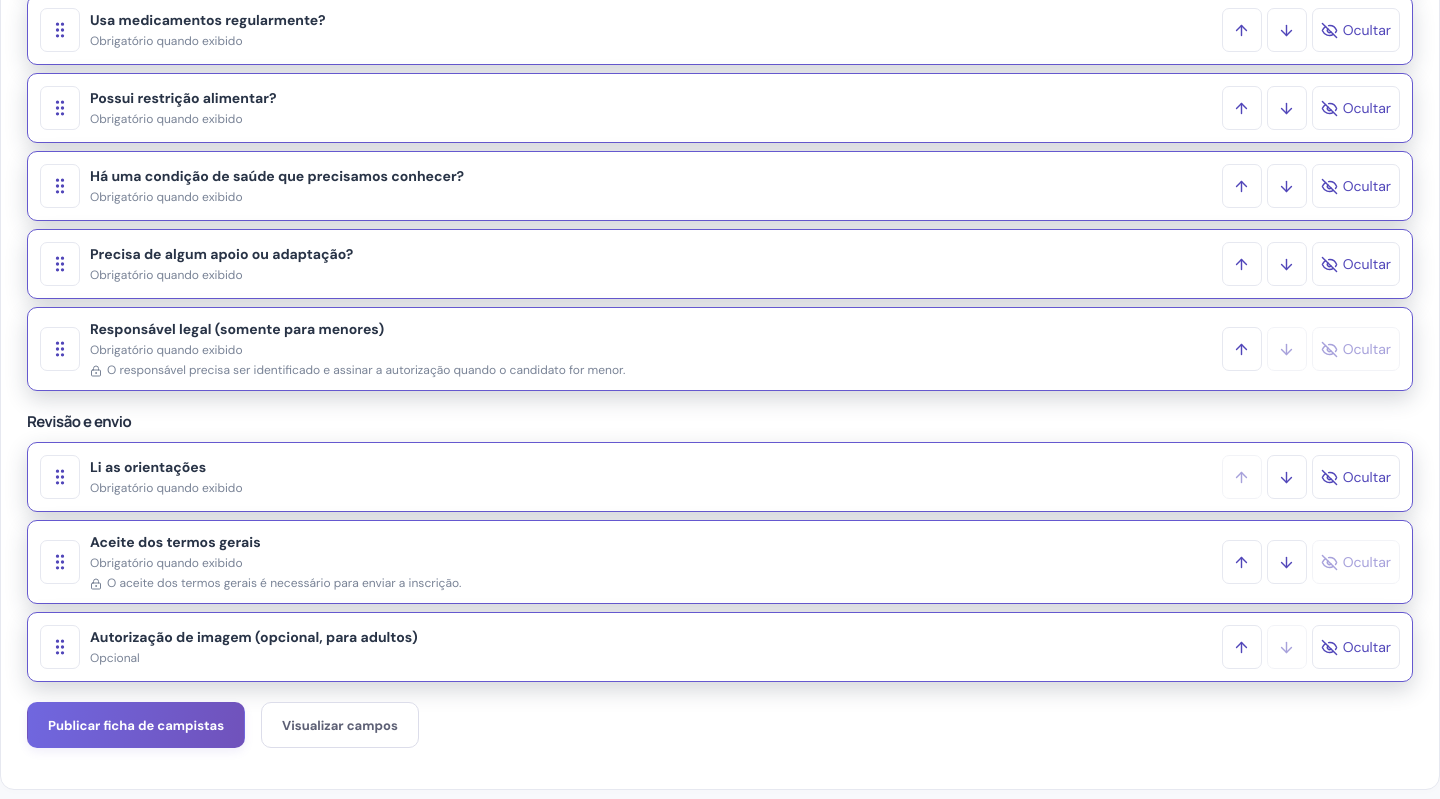
Test: Configuração da ficha de campistas › oferece banner, regras, chegada e prévia, sem depender de departamentos
The width and height of the screenshot is (1440, 799).
(page scrolled)
Expected: the button "Publicar ficha de campistas" is enabled, [27,702,245,748]
Click the button "Visualizar campos". click: (340, 725)
box: [261,702,419,748]
(page scrolled)
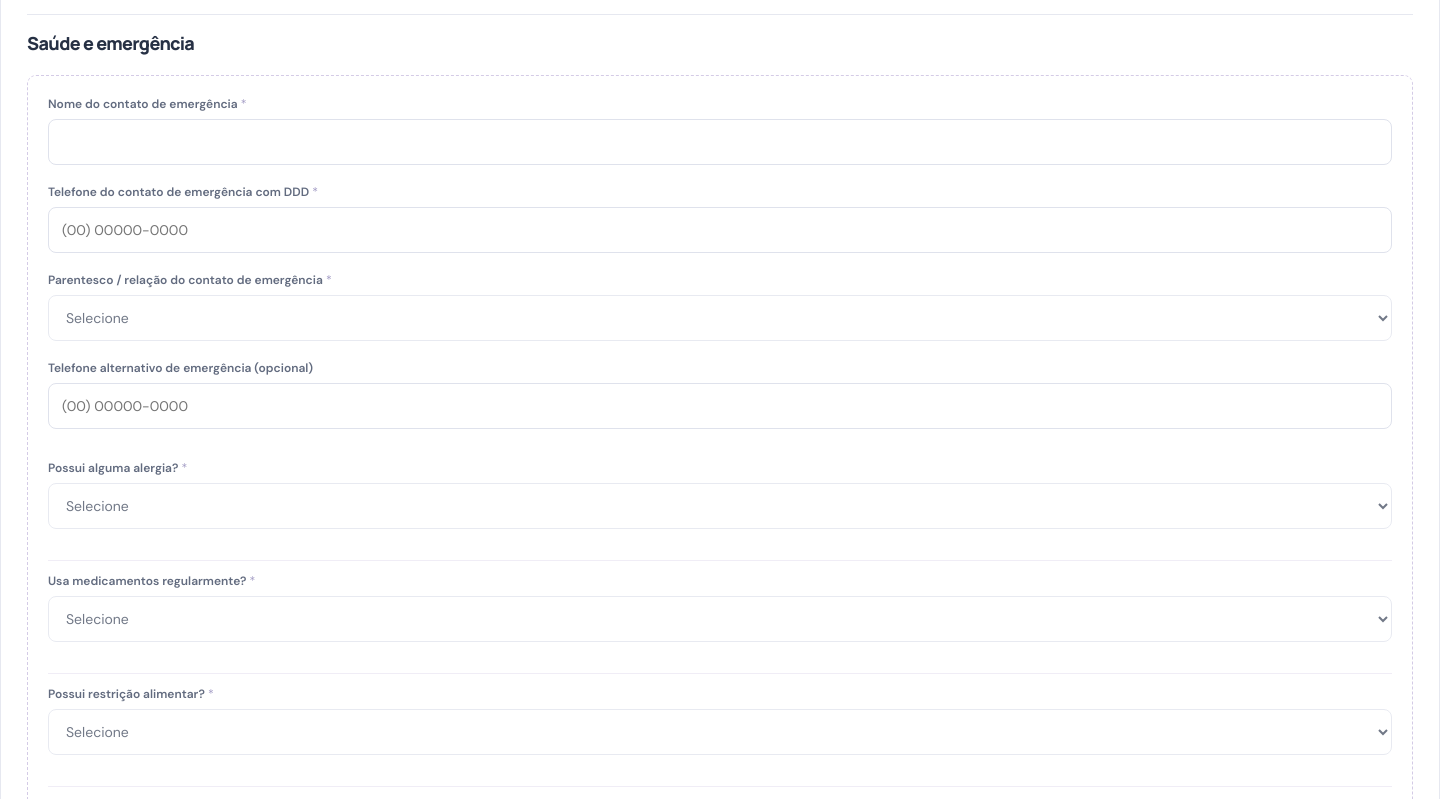
Expected: the field labelled "Telefone alternativo de emergência (opcional)" is shown, [48,383,1392,429]
